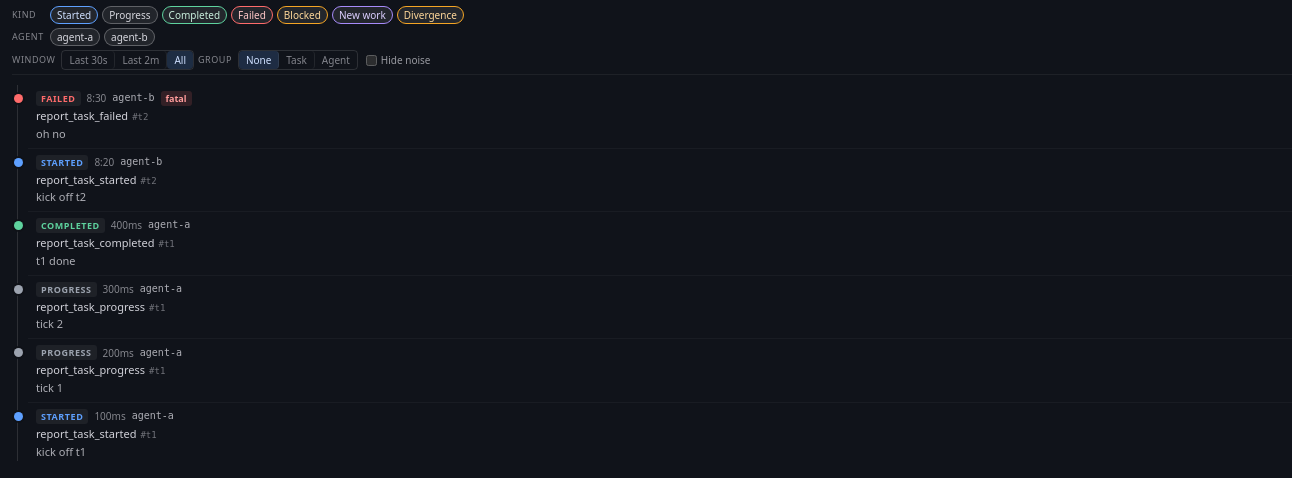
Test: <OrchestrationTimeline /> › filters by agent via the agent chips
The width and height of the screenshot is (1292, 478).
Expected: the number of elements with test id "orchestration-event" is 6, top-left (28, 85), bottom-right (1291, 149); top-left (28, 149), bottom-right (1291, 212); top-left (28, 212), bottom-right (1291, 276); top-left (28, 276), bottom-right (1291, 339); top-left (28, 339), bottom-right (1291, 403); top-left (36, 409), bottom-right (174, 458)
Deselect agent-a → only agent-b's 2 events remain.
Click the button with test id "orch-agent-chip-agent-a": (75, 37) top-left (50, 28), bottom-right (100, 46)
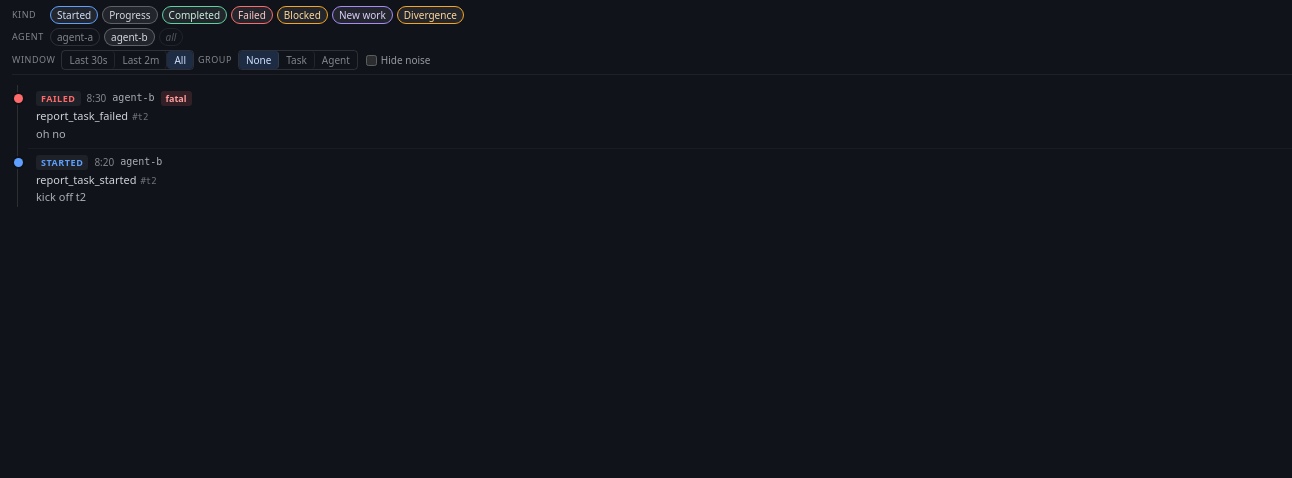
Expected: the element with test id "orchestration-event" shows "agent-b", top-left (112, 92), bottom-right (154, 103)
Expected: the number of elements with test id "orchestration-event" is 2, top-left (28, 85), bottom-right (1291, 149); top-left (36, 155), bottom-right (162, 204)
Reset via the "all" button → back to 6.
Click the button with test id "orch-agent-reset": (171, 37) top-left (159, 28), bottom-right (183, 46)
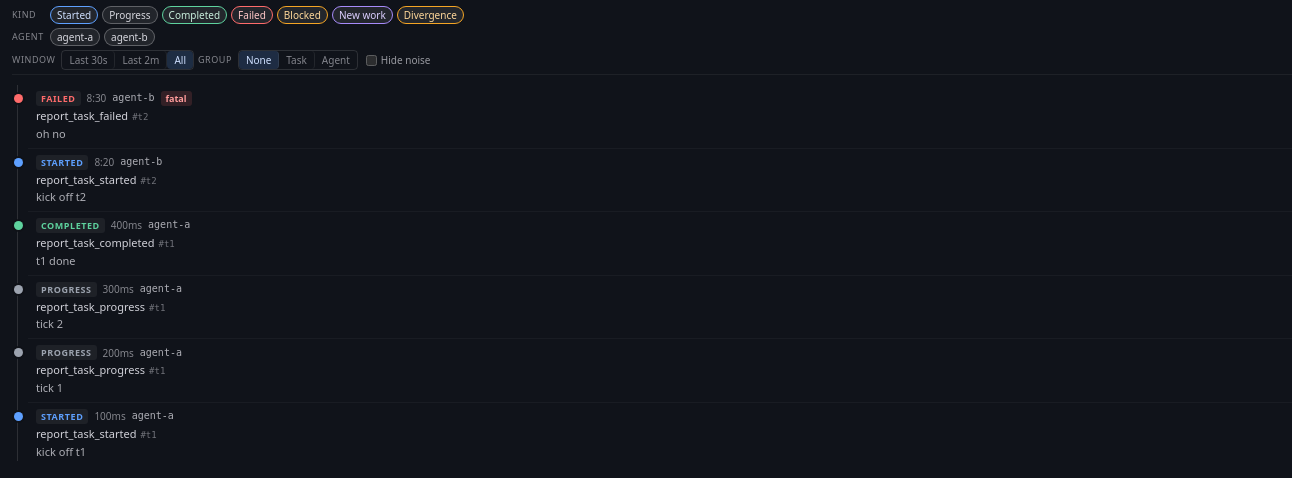
Expected: the number of elements with test id "orchestration-event" is 6, top-left (28, 85), bottom-right (1291, 149); top-left (28, 149), bottom-right (1291, 212); top-left (28, 212), bottom-right (1291, 276); top-left (28, 276), bottom-right (1291, 339); top-left (28, 339), bottom-right (1291, 403); top-left (36, 409), bottom-right (174, 458)
